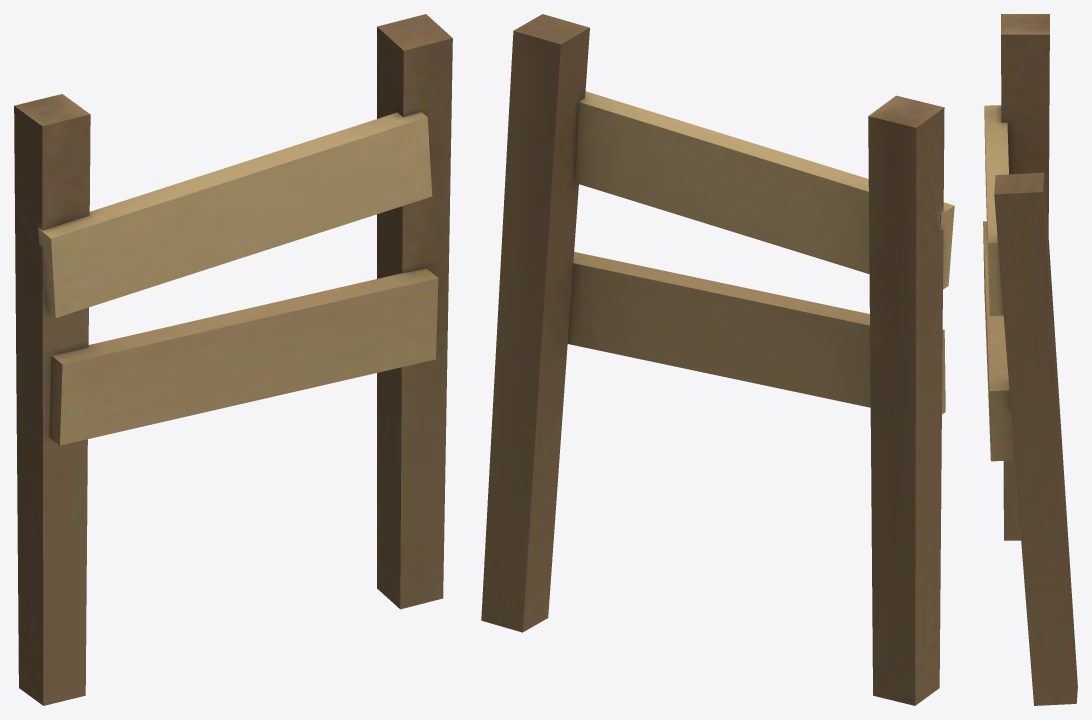
File: fencing.glb
The picture shows the model from 3 angles, left to right: view 1: azimuth 30°, elevation 25°; view 2: azimuth 150°, elevation 25°; view 3: azimuth 270°, elevation 25°; orthographic projection. The views are drawn at different scales.
Visible parts, largest first — view 1: Object_2; view 2: Object_2; view 3: Object_2.
Boxes of the visible parts, x1,y1,x2,y2 form: Object_2: (14,14,452,705); Object_2: (481,14,954,705); Object_2: (983,14,1077,705).
Size of the model in its own units: 0.8109 by 1.08 by 0.1811.
1 material, 1 textured.
